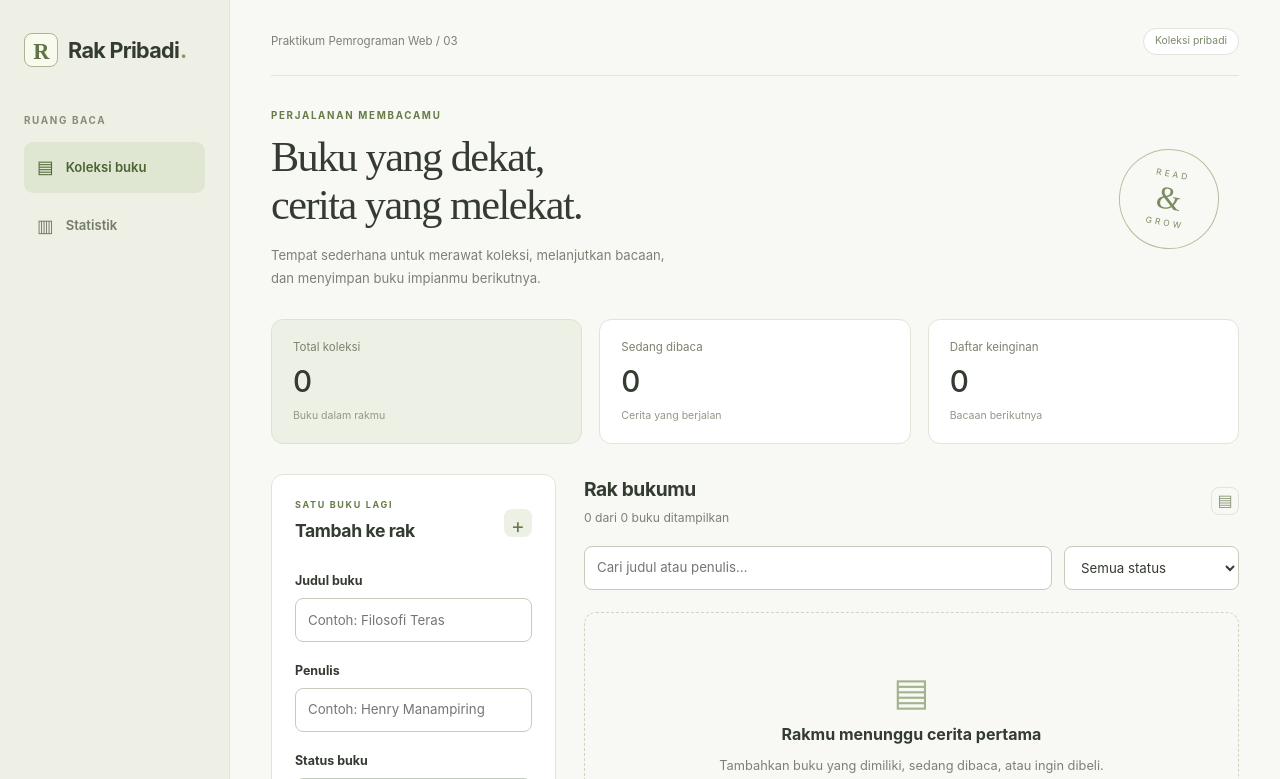
Test: menambah buku, mereset form, dan menyimpan JSON
The image size is (1280, 779).
Type "Filosofi Teras" into the field labelled "Judul buku" at (414, 620), box [295,598,532,642]
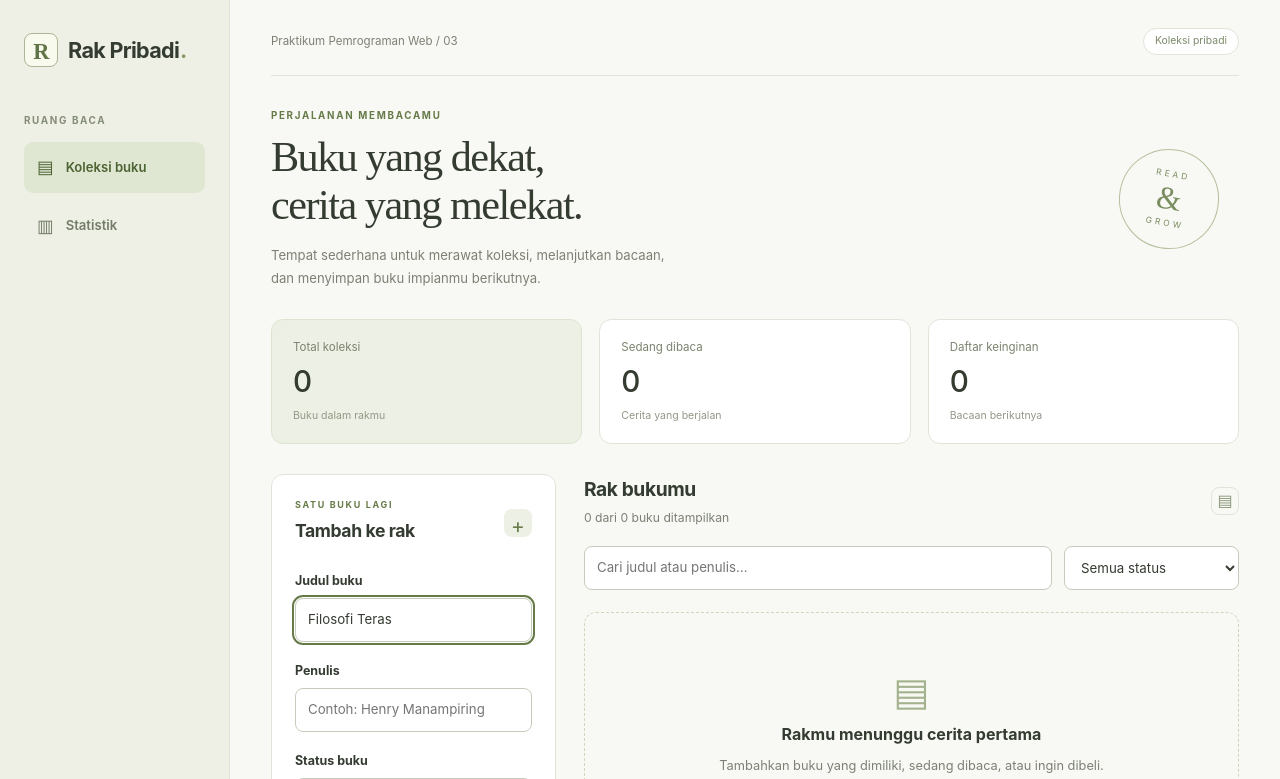
Type "Henry Manampiring" into the field labelled "Penulis" at (414, 710), box [295,688,532,732]
(page scrolled)
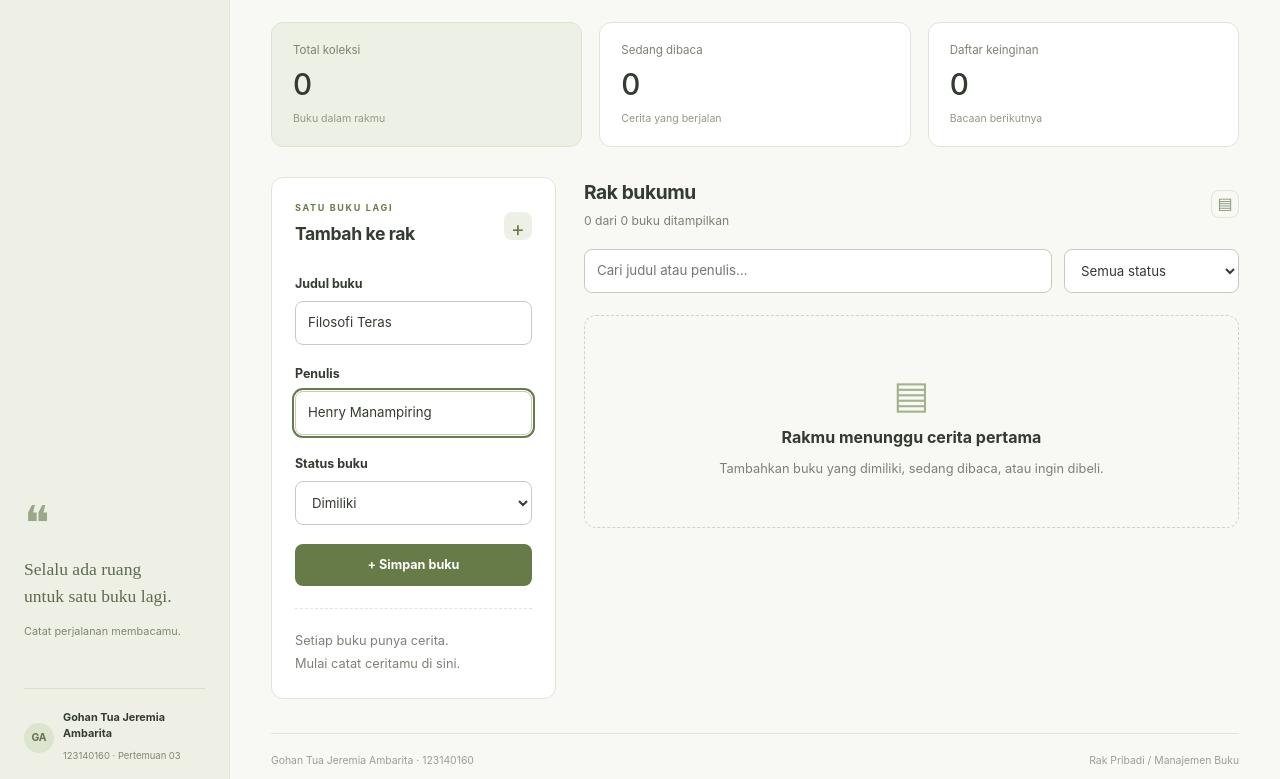
Select "Sedang dibaca" in the dropdown labelled "Status buku" at (414, 503), box [295,481,532,525]
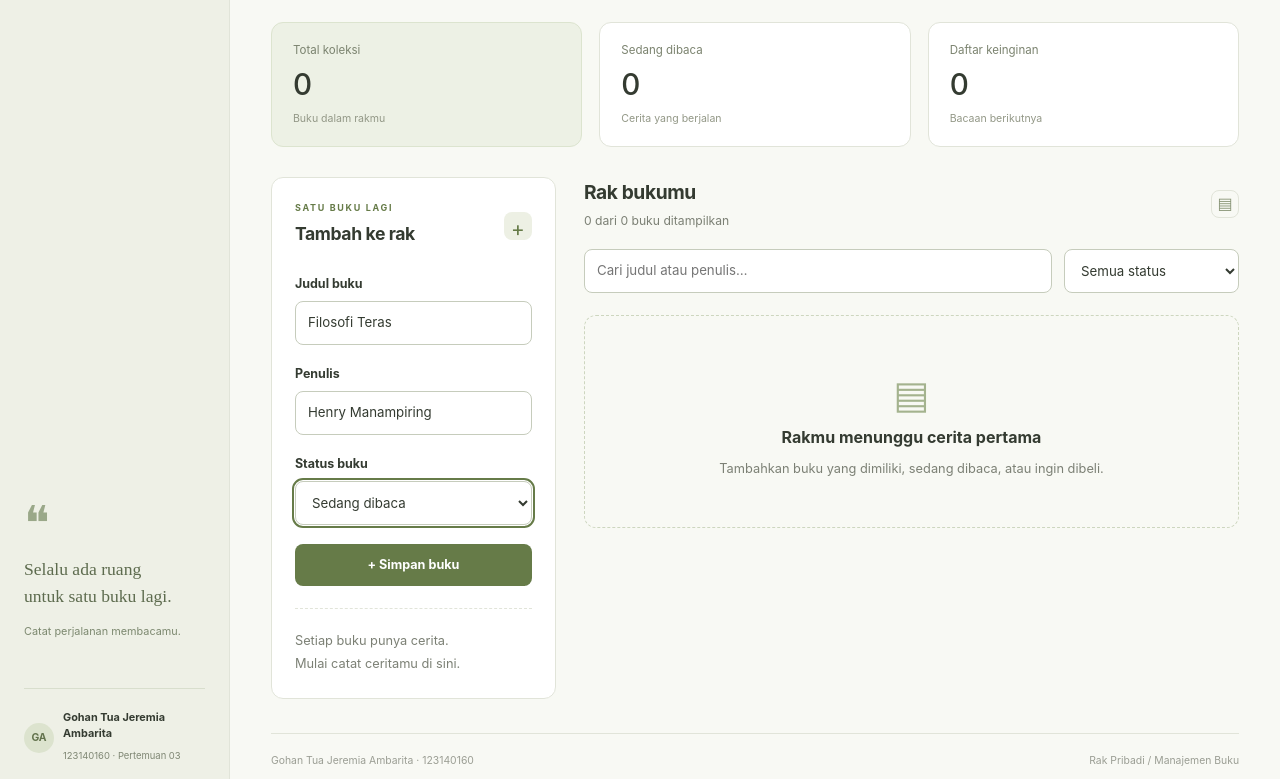
Click the button "+ Simpan buku" at (414, 565), box [295,544,532,586]
(page scrolled)
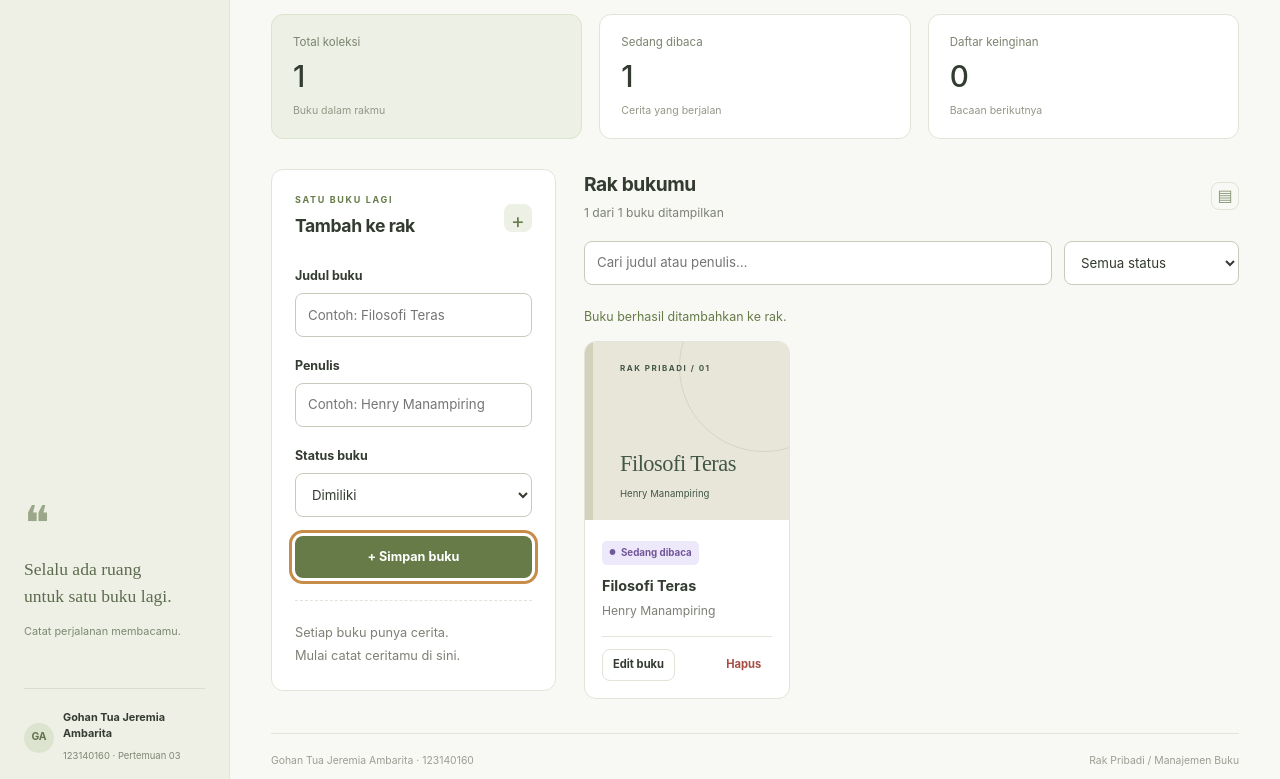
Expected: the heading "Filosofi Teras" is shown, [602,577,696,594]
